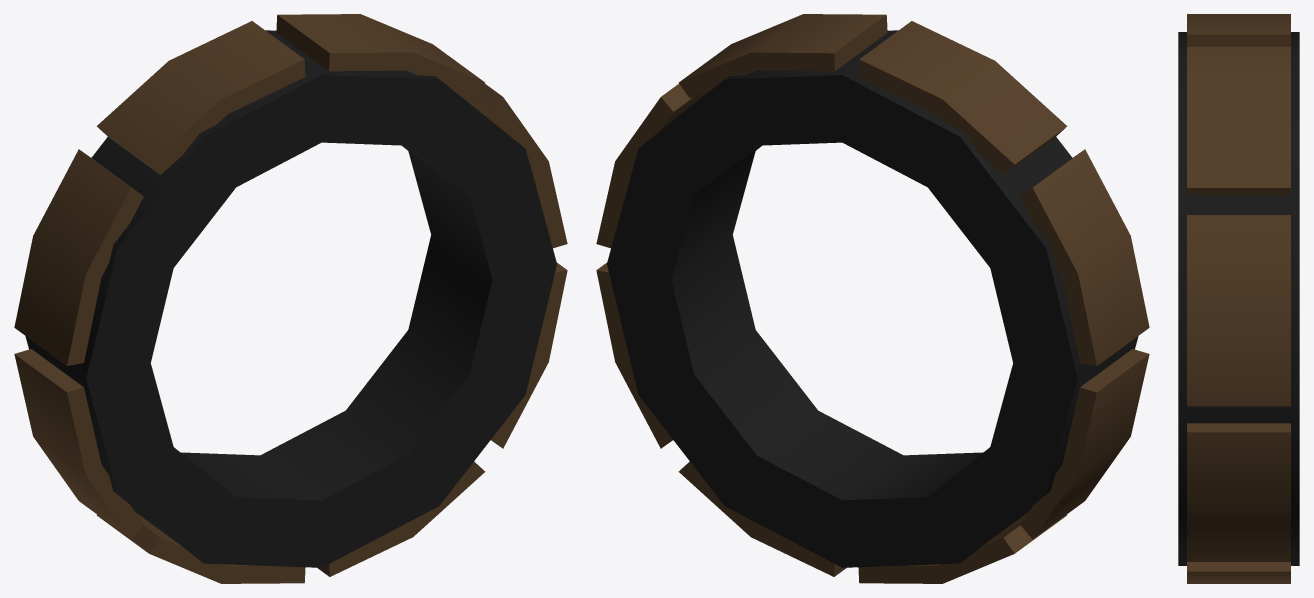
Rendered from kt1_coil.obj.
3 renders of one model, left to right at view 1: azimuth 30°, elevation 25°; view 2: azimuth 150°, elevation 25°; view 3: azimuth 270°, elevation 25°, orthographic.
Visible parts, largest first — view 1: kt1_coil; view 2: kt1_coil; view 3: kt1_coil.
Boxes of the visible parts, <box> form: kt1_coil: <box>14,14,567,583</box>; kt1_coil: <box>596,14,1149,583</box>; kt1_coil: <box>1178,14,1299,583</box>.
Bounding box in the file's own units: 2.64 × 2.64 × 0.56.
